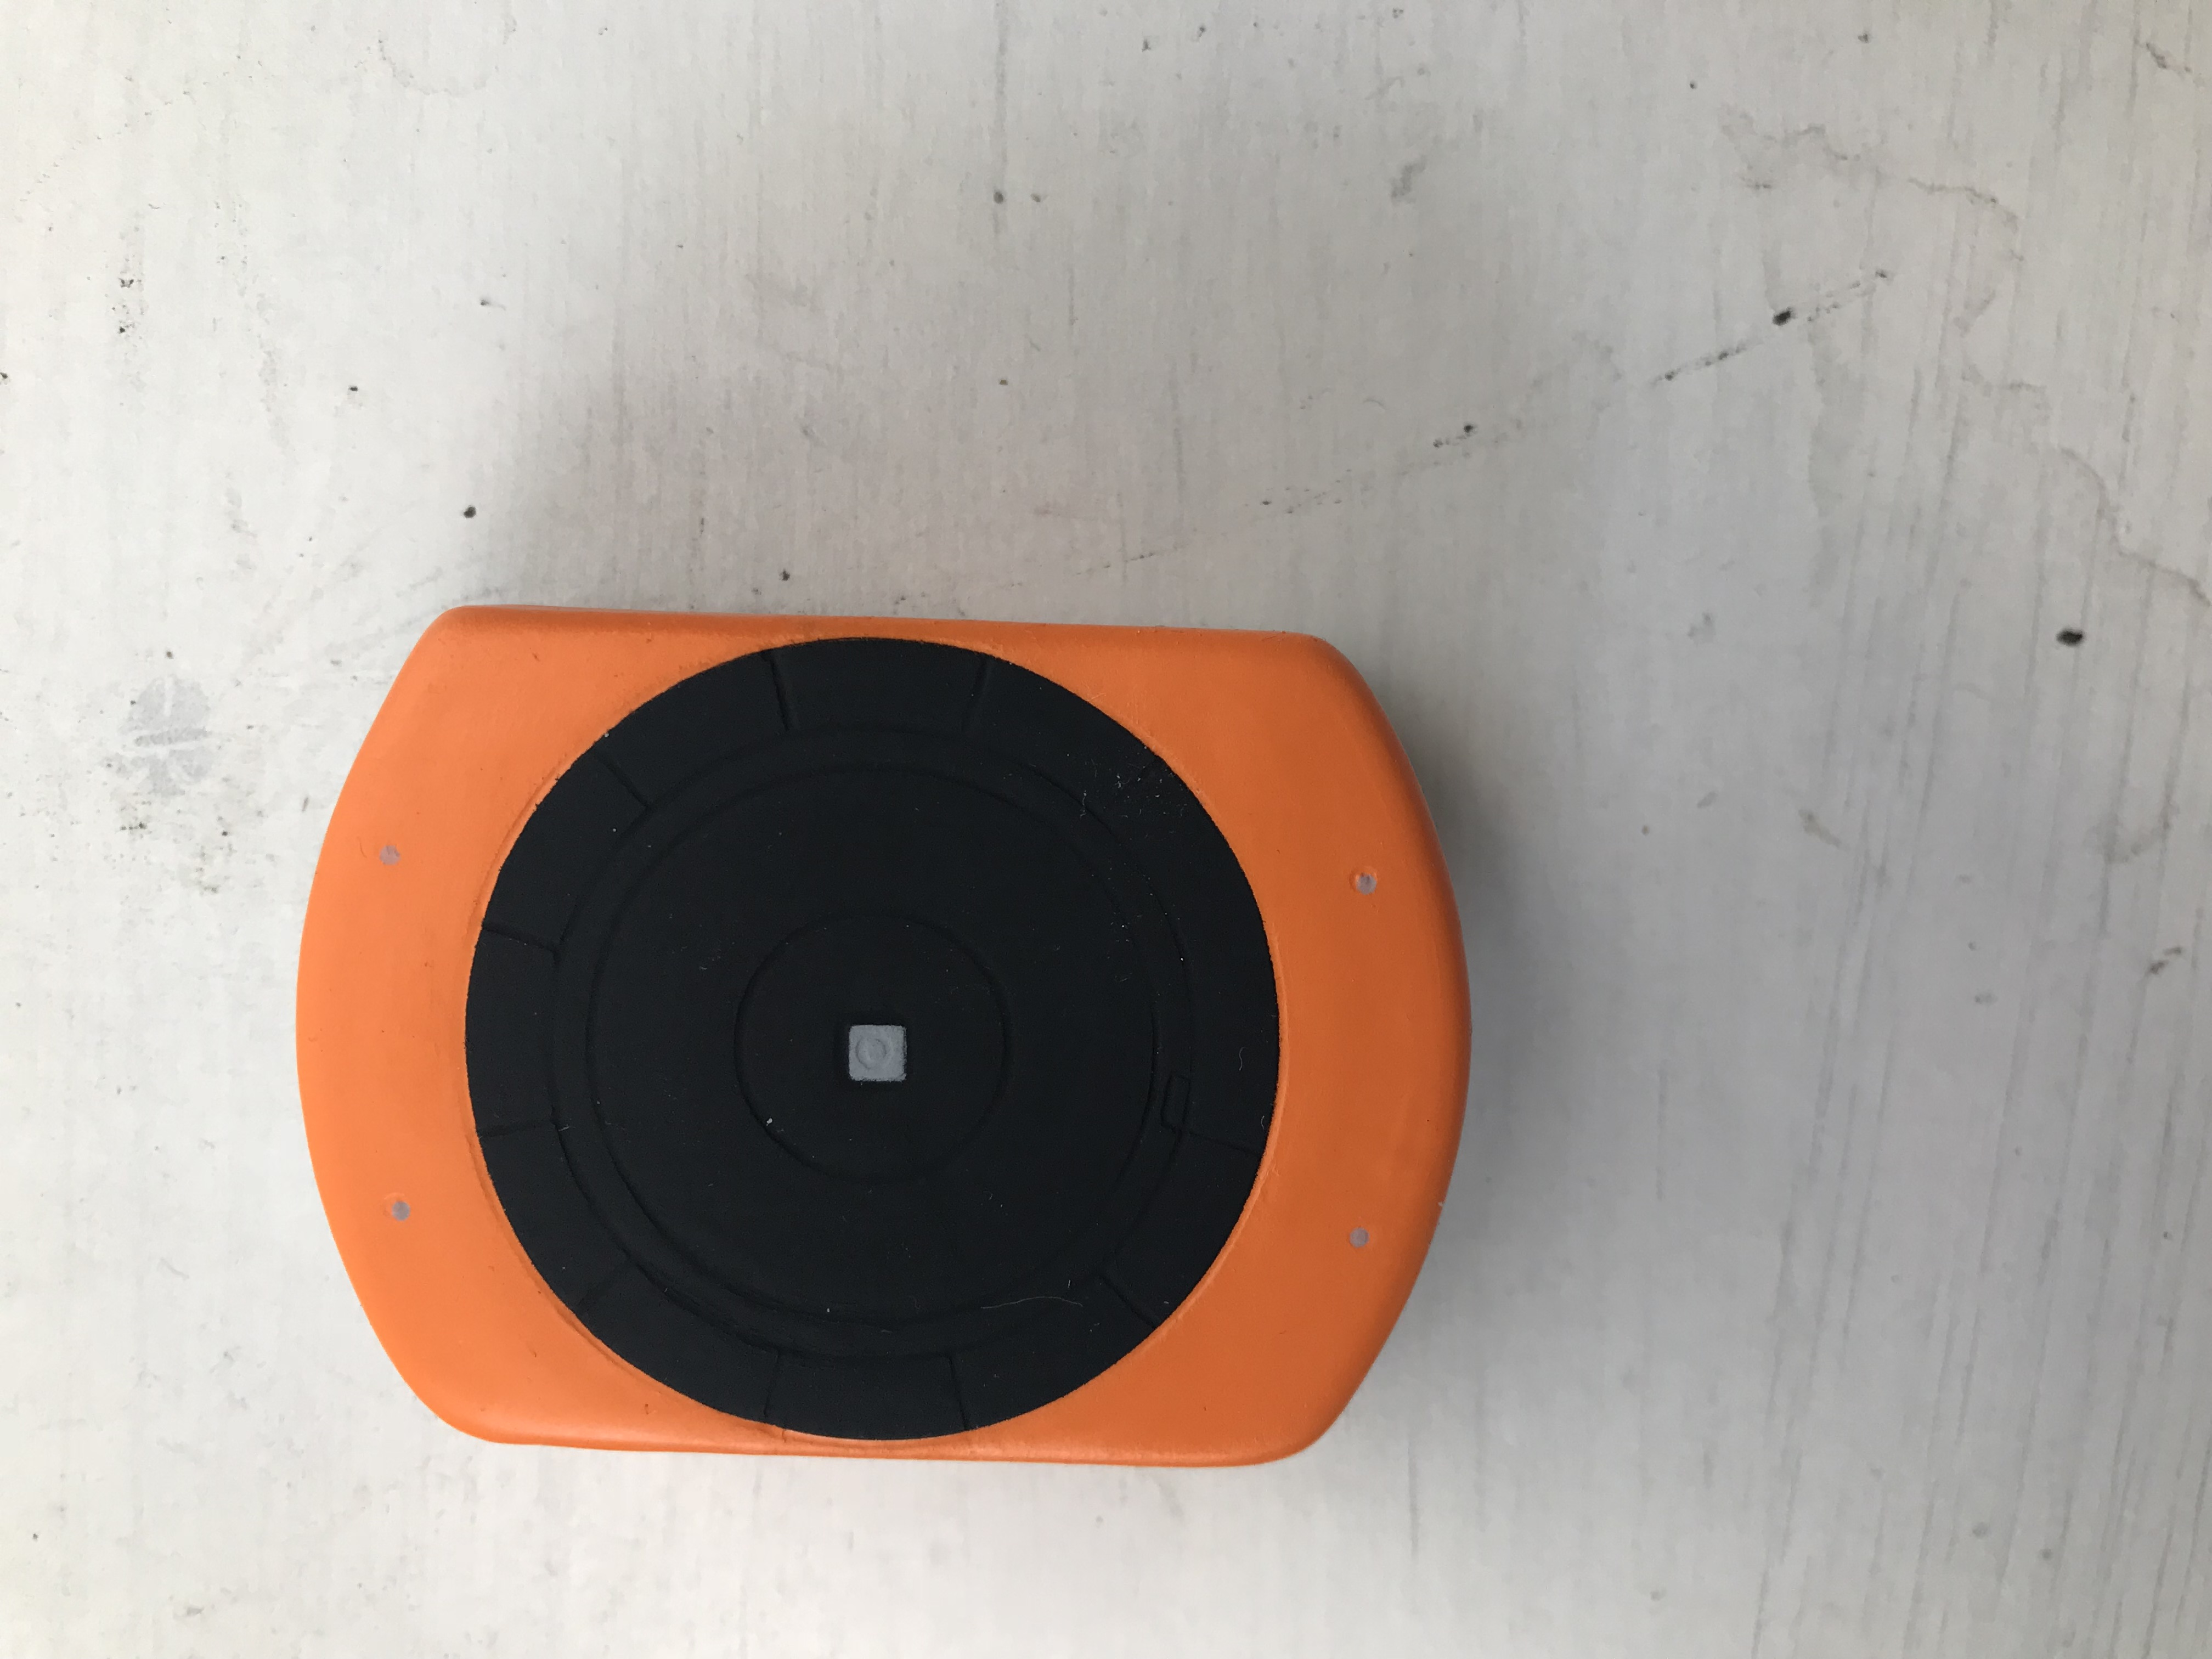amazon_bot: (277, 587, 1620, 1542)
